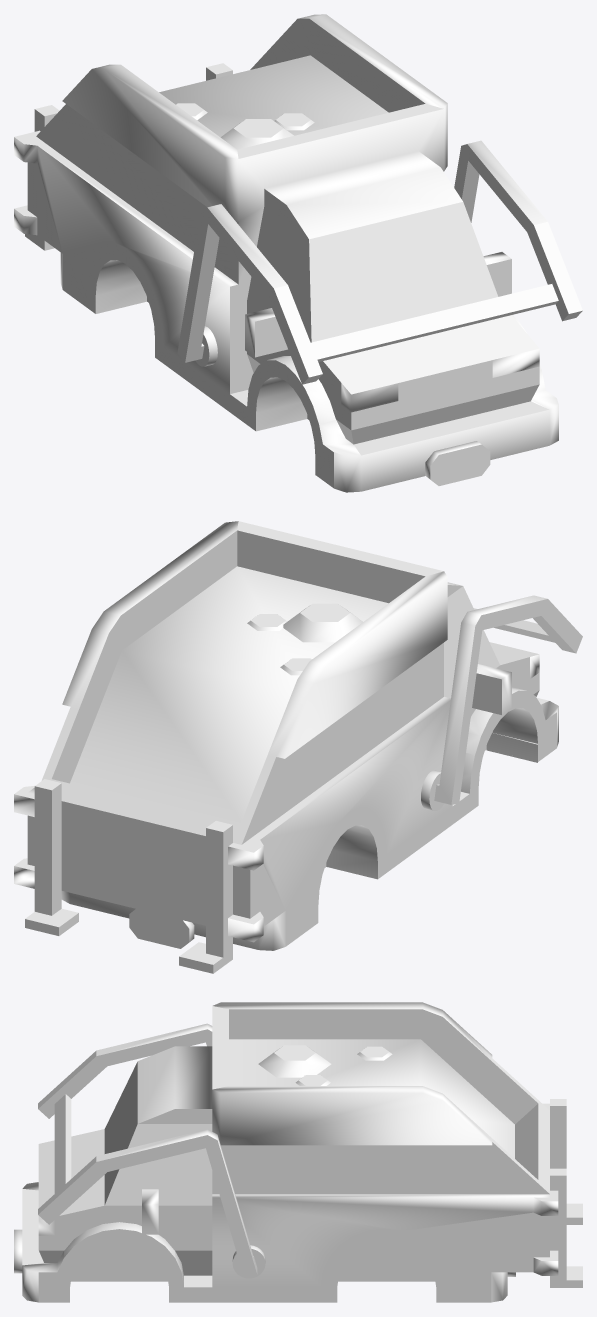
The model's file is garbage-vehicle.glb.
3 renders of one model, top to bottom at view 1: azimuth 30°, elevation 25°; view 2: azimuth 150°, elevation 25°; view 3: azimuth 270°, elevation 25°, orthographic. The views are drawn at different scales.
Visible parts, largest first — view 1: garbage-vehicle; view 2: garbage-vehicle; view 3: garbage-vehicle.
Part boxes in pixels (bbox=[...]): garbage-vehicle: bbox=[14, 14, 582, 492]; garbage-vehicle: bbox=[14, 521, 582, 973]; garbage-vehicle: bbox=[14, 1002, 582, 1302].
Bounding box in the file's own units: 1.6 × 1.47 × 3.45.
Materials: 1 (1 with a texture image).
